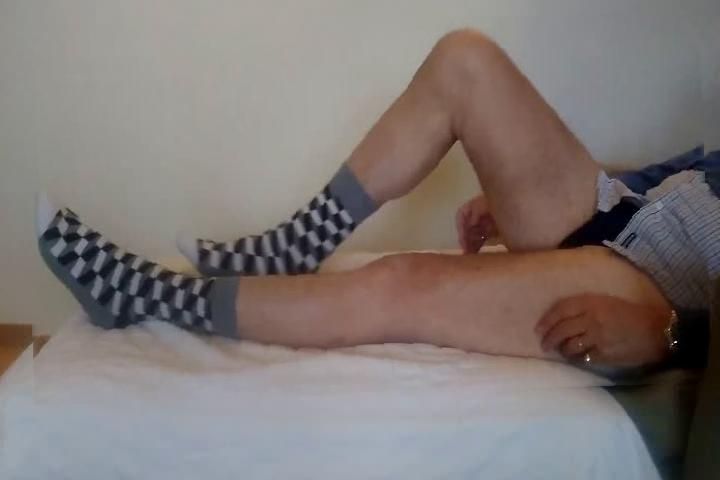lowerbody: (26, 16, 710, 401)
